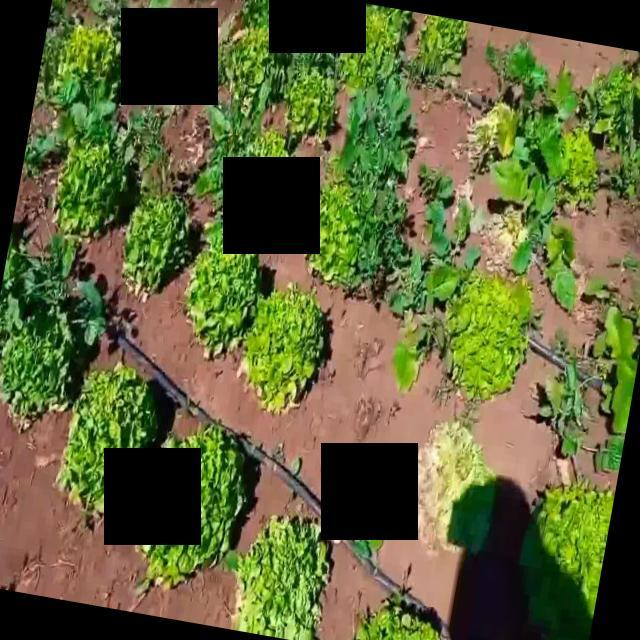Lettuce: (146, 420, 247, 590), (516, 480, 618, 638), (60, 363, 157, 514), (233, 513, 332, 640), (442, 270, 534, 396), (415, 422, 498, 558), (243, 290, 331, 406), (184, 246, 266, 350), (119, 190, 196, 293), (48, 138, 129, 232), (0, 324, 73, 418), (310, 182, 369, 284), (218, 26, 286, 86), (52, 20, 119, 80), (283, 72, 339, 141), (351, 602, 447, 640), (558, 132, 603, 194), (341, 45, 394, 97), (360, 5, 412, 55), (418, 16, 468, 62)
